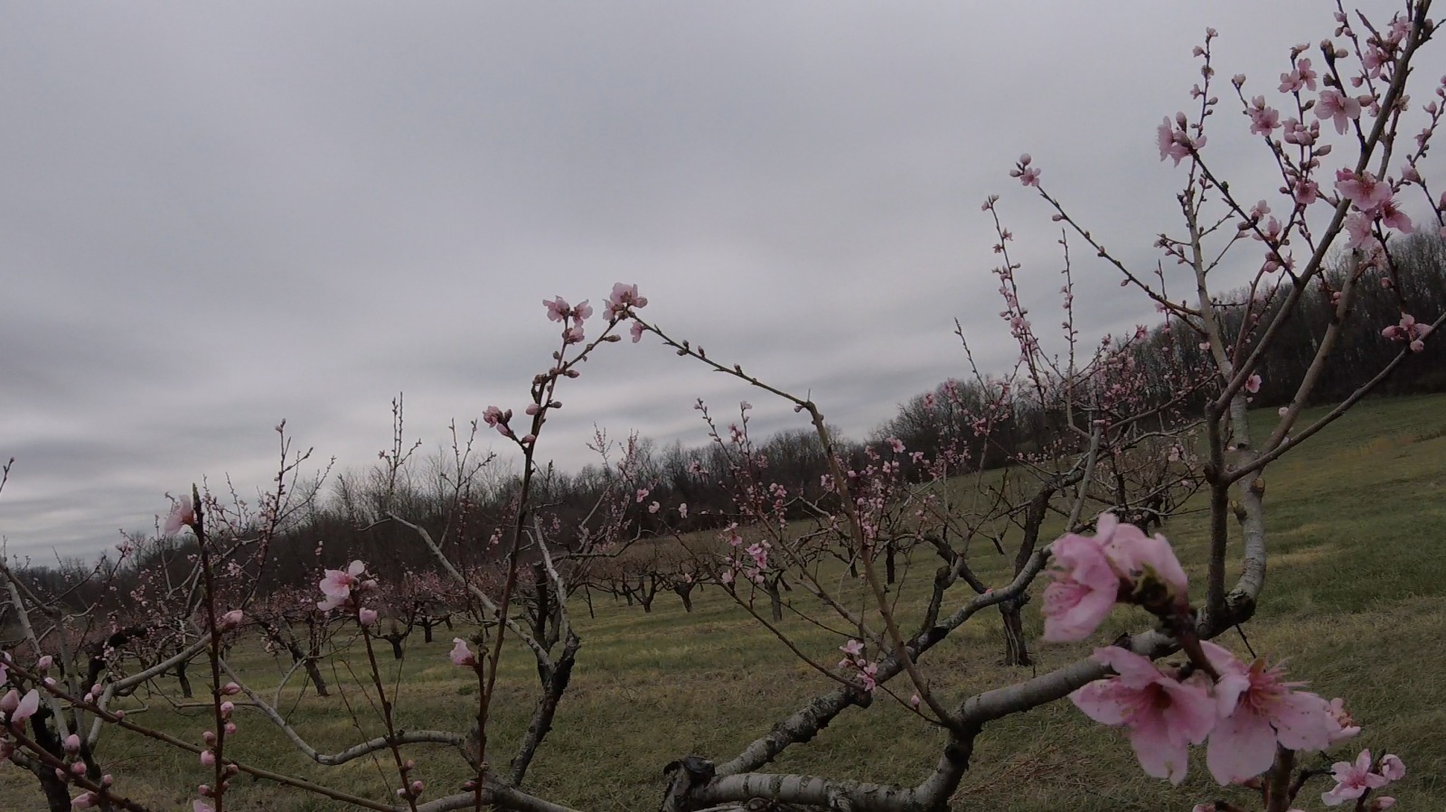flower: (1068, 640, 1361, 788), (1039, 513, 1188, 642), (1335, 168, 1413, 254), (1322, 749, 1406, 806), (1244, 96, 1319, 145), (1314, 88, 1381, 135), (317, 560, 366, 611), (1156, 117, 1194, 168), (603, 282, 645, 323), (162, 492, 194, 543), (0, 687, 40, 723), (1278, 59, 1318, 93), (1361, 43, 1390, 88), (569, 300, 593, 343), (1382, 11, 1413, 43), (1397, 313, 1434, 335), (1293, 180, 1320, 210), (543, 296, 571, 323), (448, 638, 474, 665), (1019, 167, 1042, 189), (1250, 201, 1271, 223), (483, 406, 503, 428), (840, 639, 865, 656), (1264, 216, 1282, 238), (1400, 165, 1421, 182), (360, 608, 378, 625), (631, 322, 645, 343), (1190, 136, 1207, 150), (864, 663, 878, 675), (1177, 113, 1188, 125), (1369, 36, 1378, 42), (1388, 177, 1394, 182), (1300, 112, 1301, 121)
